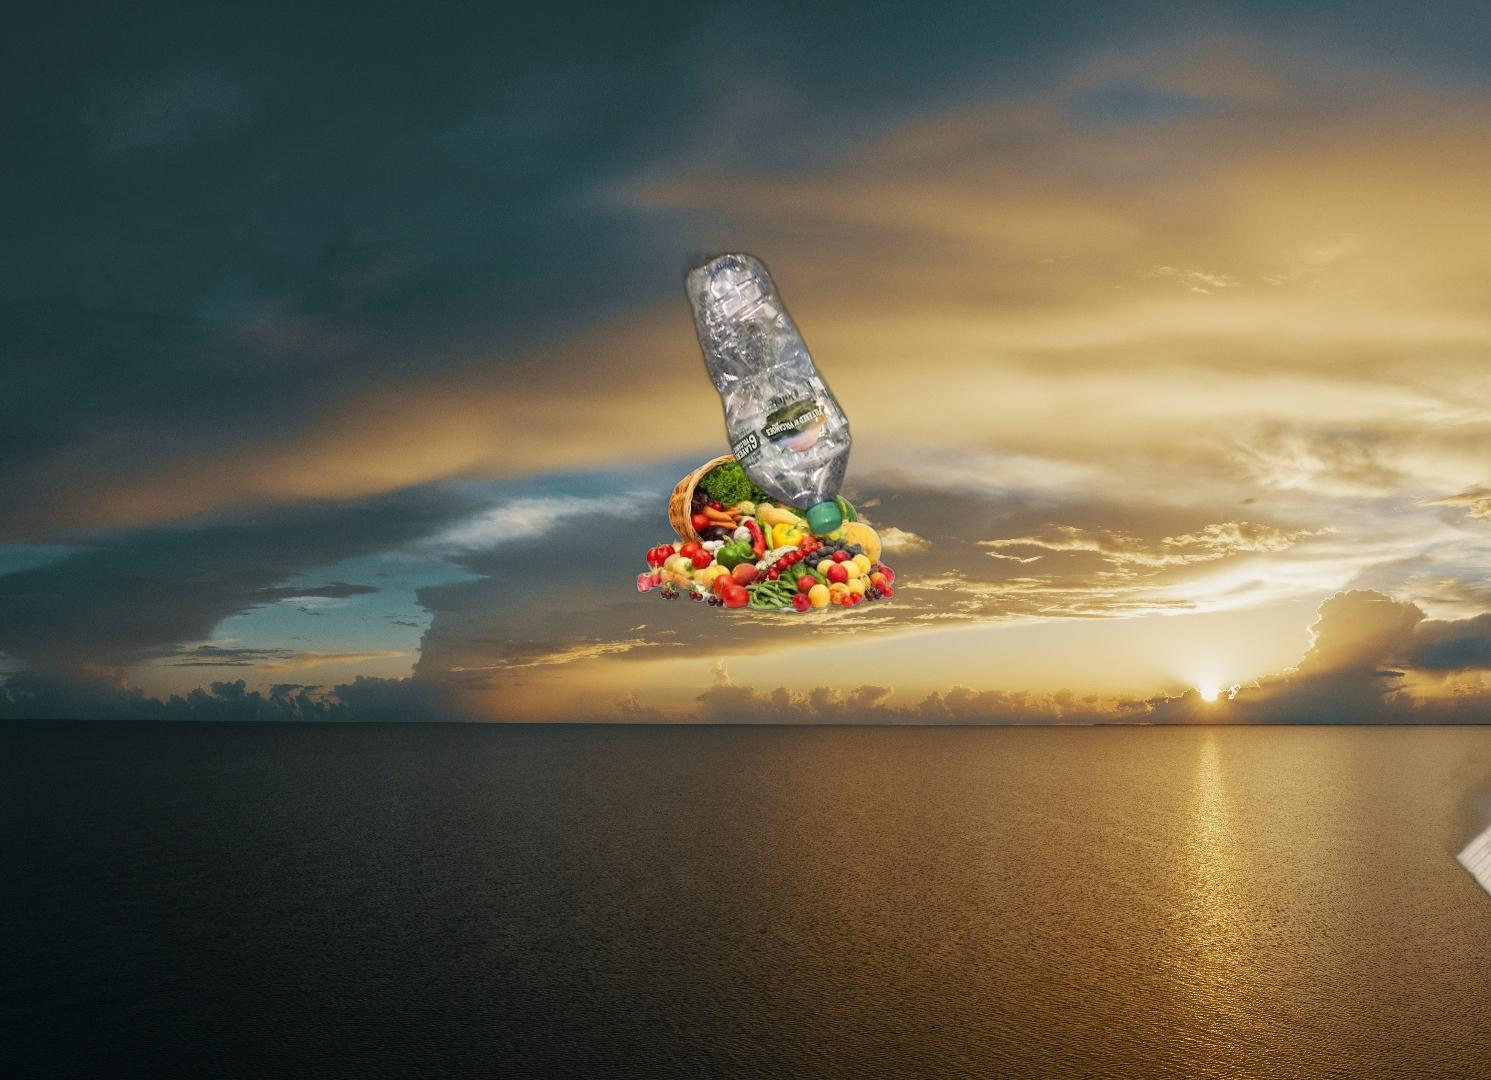biological: (631, 451, 899, 619)
paper: (1363, 674, 1491, 1058)
plastic-bottles: (680, 244, 855, 541)
